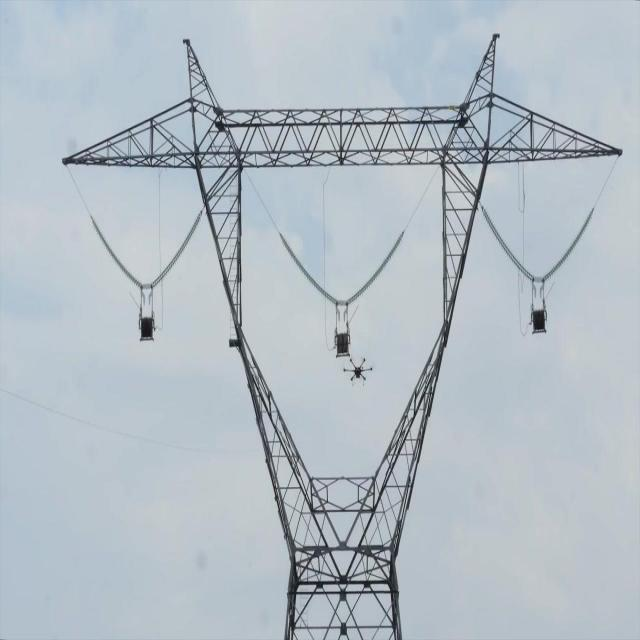UAV: (343, 358, 373, 387)
